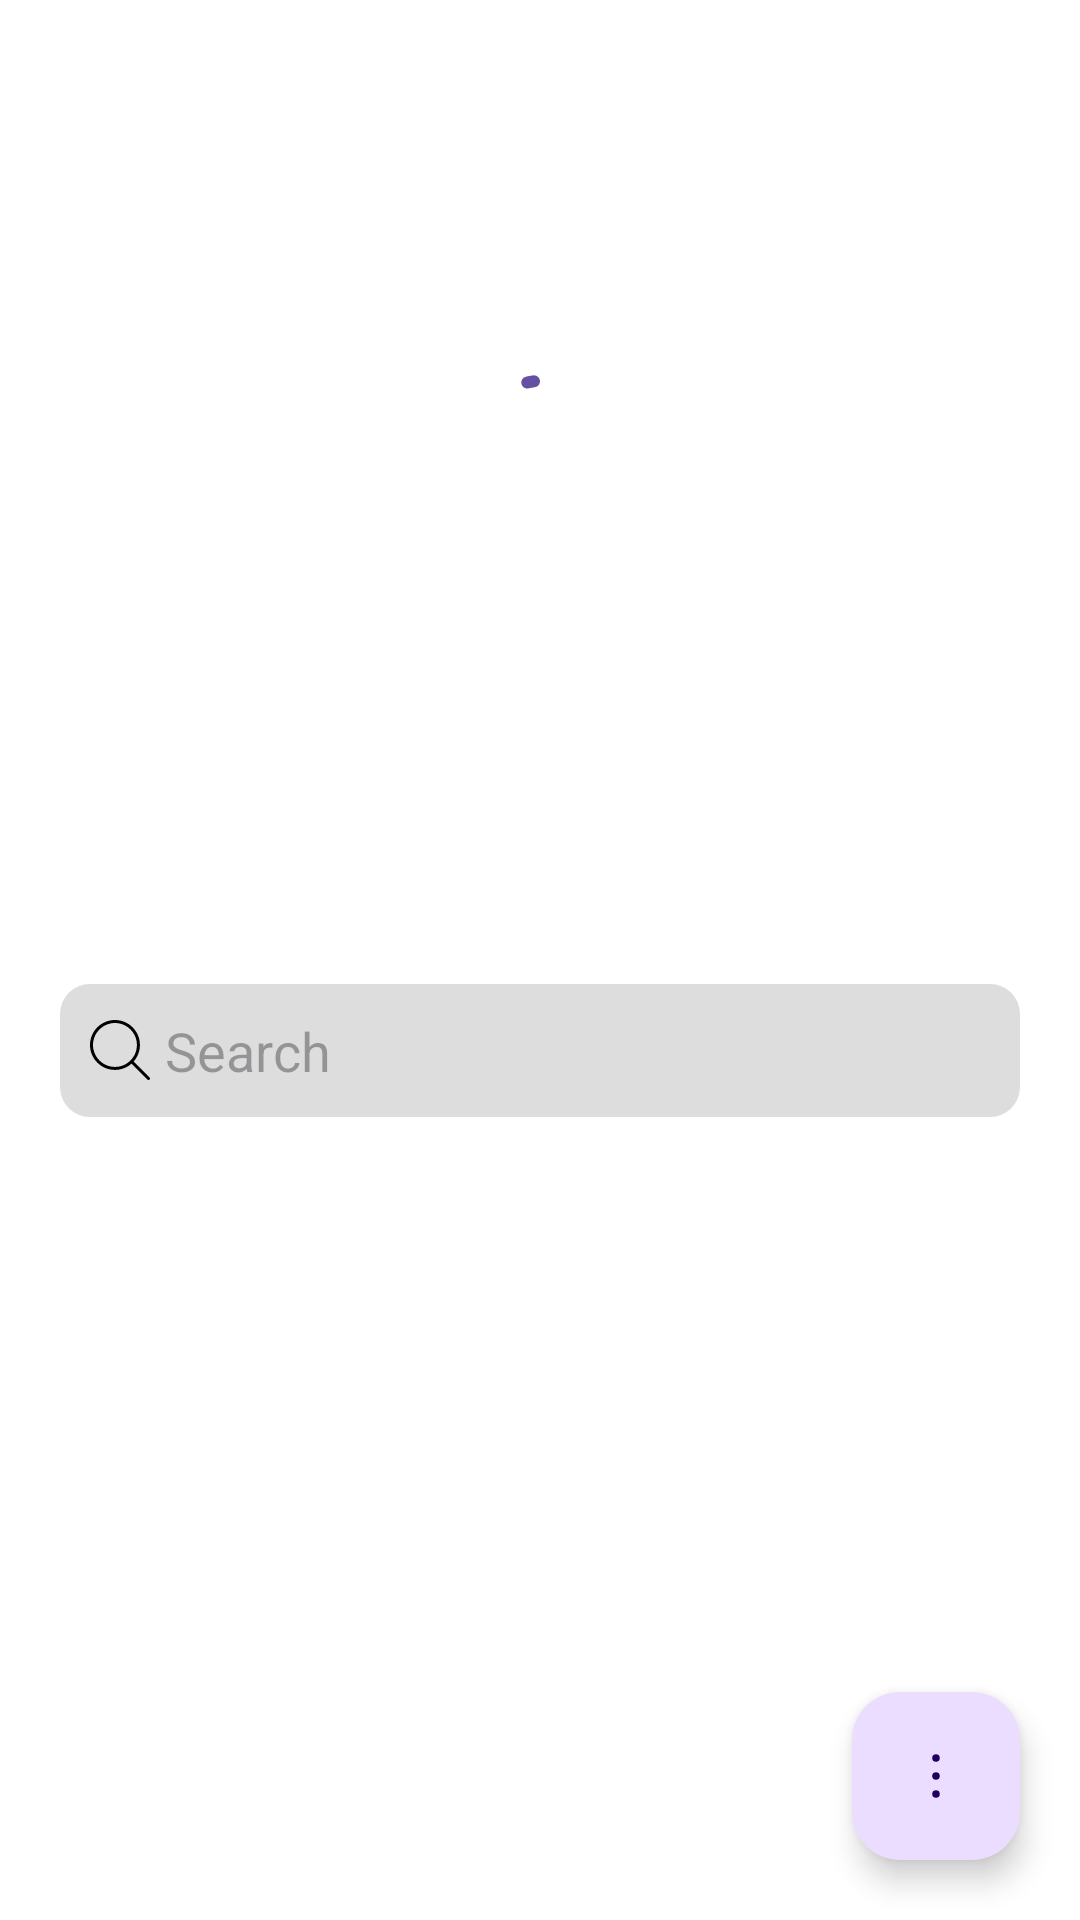

Screen size 1080 × 1920. Icon name, then its box in pixels as (x1, y1, x2, y2):
more vert: (852, 1692, 1020, 1860)
